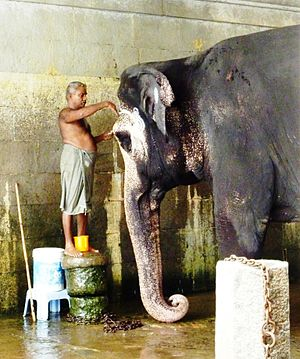Indian Elephant: (110, 24, 300, 328)
